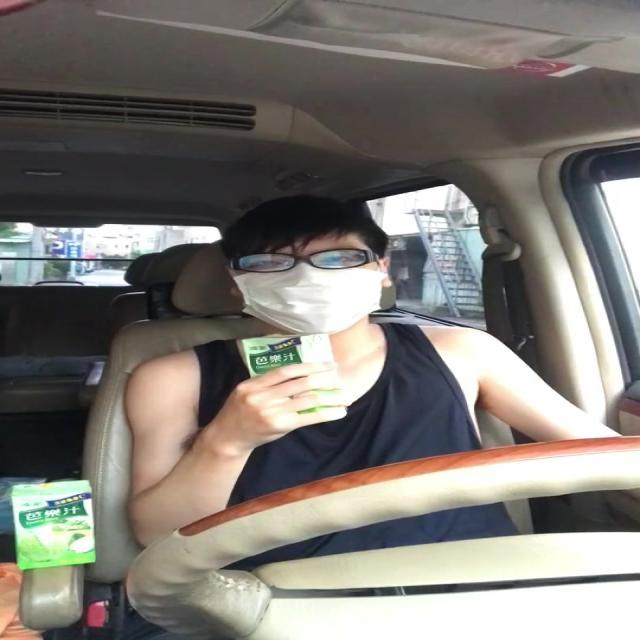Seatbelt: (240, 331, 339, 417)
